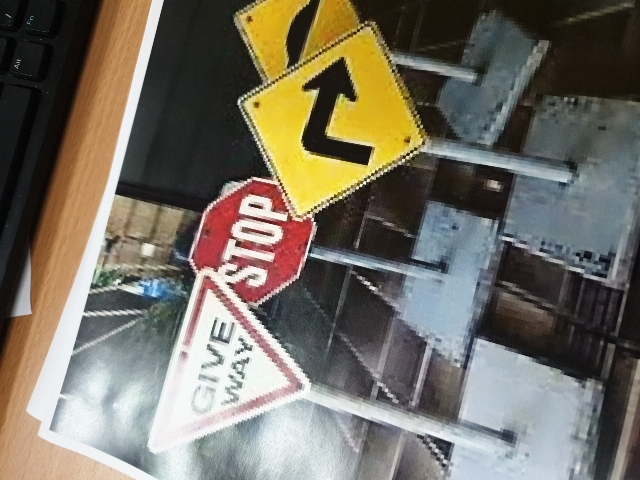giveway: (160, 277, 290, 438)
right: (244, 53, 422, 193)
stop: (199, 174, 323, 293)
